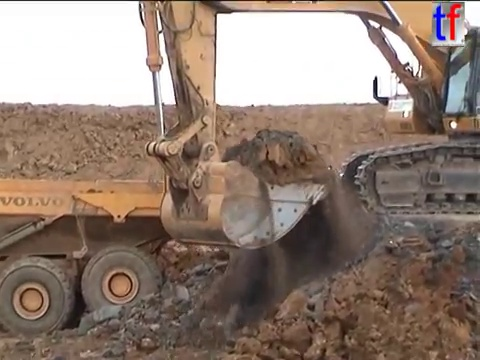excavator: (134, 1, 480, 253)
truck: (1, 174, 254, 342)
